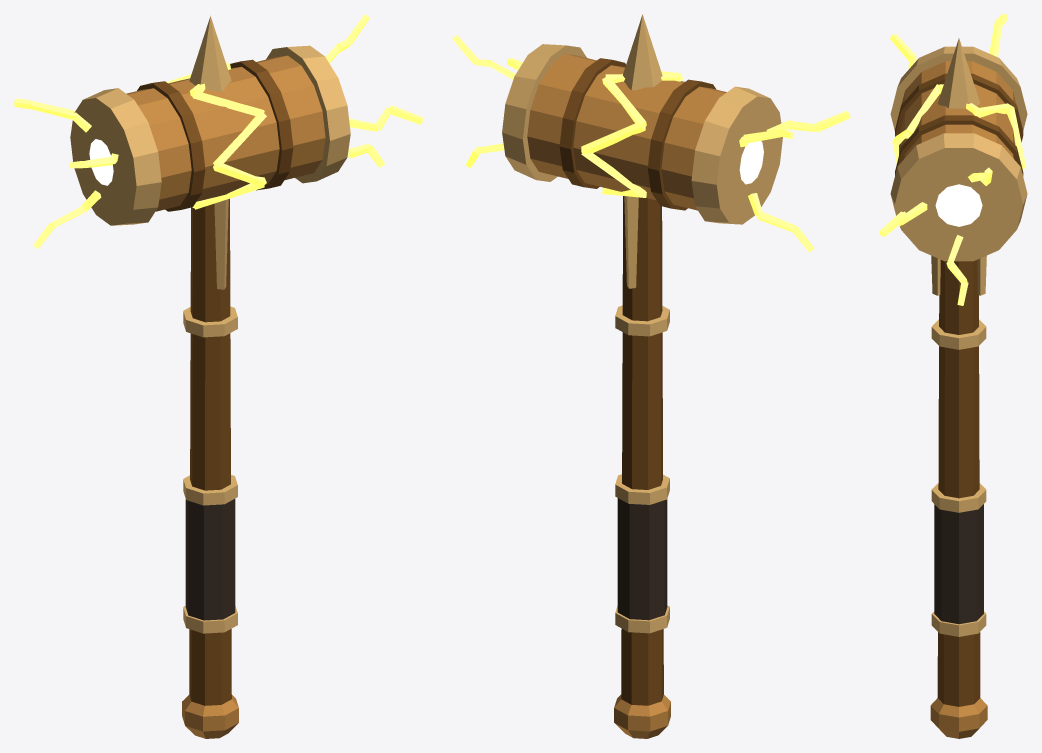
File: titan_thunder_hammer.glb
3 renders of one model, left to right at view 1: azimuth 30°, elevation 25°; view 2: azimuth 150°, elevation 25°; view 3: azimuth 270°, elevation 25°, orthographic. The views are drawn at different scales.
Visible parts, largest first — view 1: titan_thunder_hammer; view 2: titan_thunder_hammer; view 3: titan_thunder_hammer.
Part boxes in pixels (left/top/right/bottom): titan_thunder_hammer: left=14, top=14, right=423, bottom=738; titan_thunder_hammer: left=452, top=14, right=850, bottom=738; titan_thunder_hammer: left=879, top=14, right=1027, bottom=738.
Size of the model in its own units: 0.9132 by 1.8 by 0.3459.
